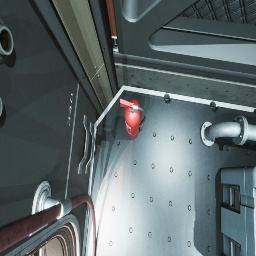FireExtinguisher ]: (120, 98, 147, 140)
